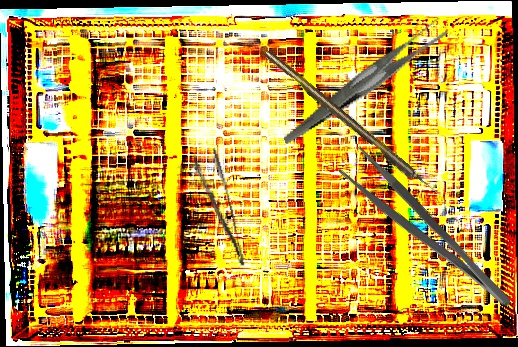Dressing Forceps: (334, 142, 518, 326), (263, 15, 465, 145), (191, 147, 248, 272)
Hook Surgical: (262, 47, 443, 202)
